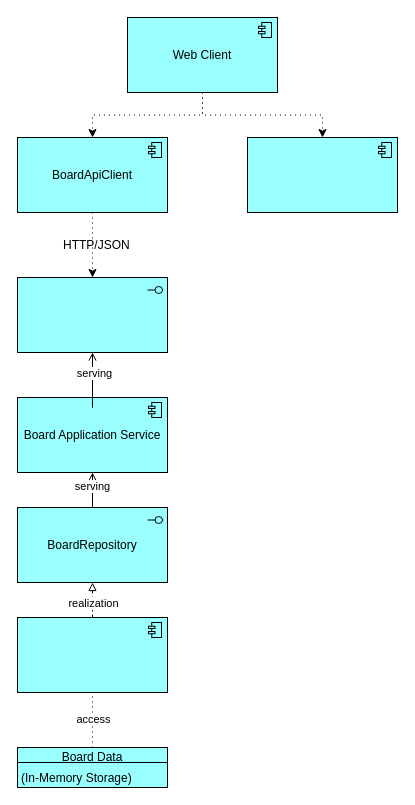
Some shapes in this 415 by 805 pixel diagram are drawn without their labels. The centre of each missing label's shape, as x and y in pixels:
"InMemoryBoardRepository" belongs at pixel 92 654.
"REST API" belongs at pixel 92 314.
"SVG View" belongs at pixel 322 174.
